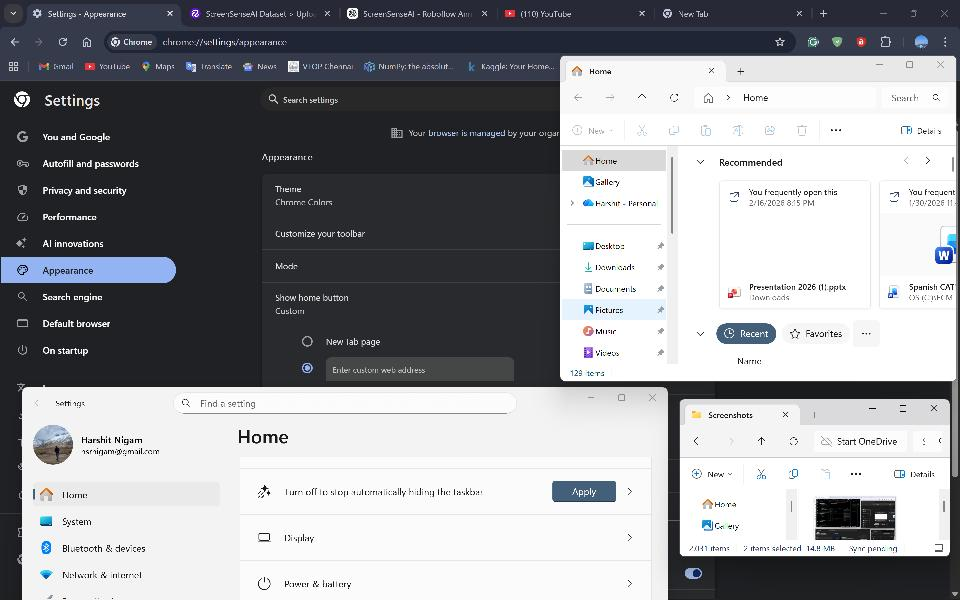close_button: (924, 401, 943, 420), (930, 59, 952, 75), (643, 389, 663, 406), (937, 3, 953, 24)
maximize_button: (905, 3, 923, 23), (893, 401, 914, 418), (613, 389, 632, 405), (901, 59, 918, 74)
minimize_button: (875, 3, 894, 24), (870, 58, 889, 74), (581, 389, 600, 405), (864, 401, 881, 418)
